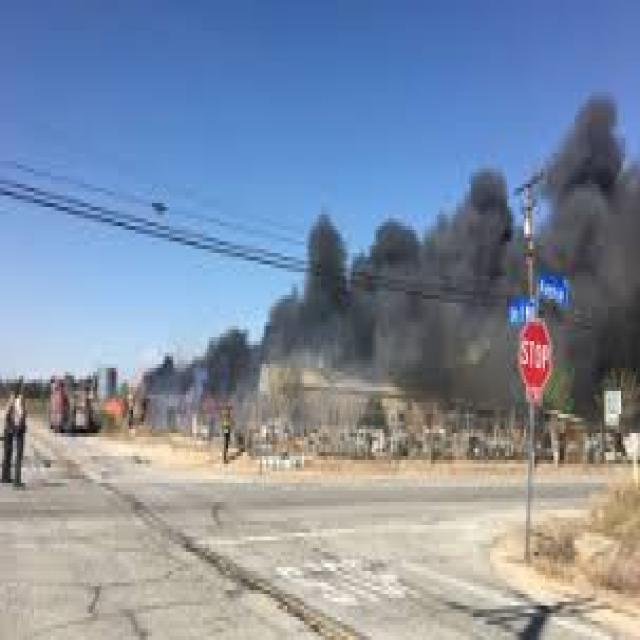Smoke: (345, 162, 510, 371), (543, 92, 640, 270), (298, 214, 348, 360), (574, 274, 637, 384), (263, 287, 303, 357), (200, 331, 256, 377)
